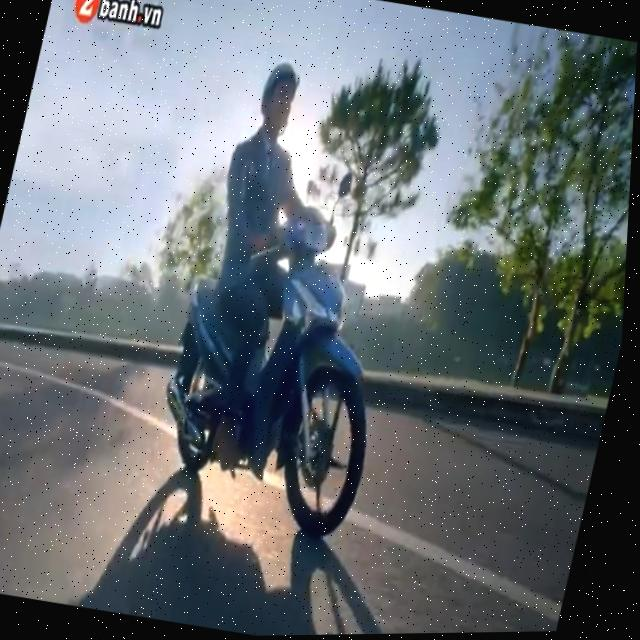motorcycle: (128, 180, 423, 550)
